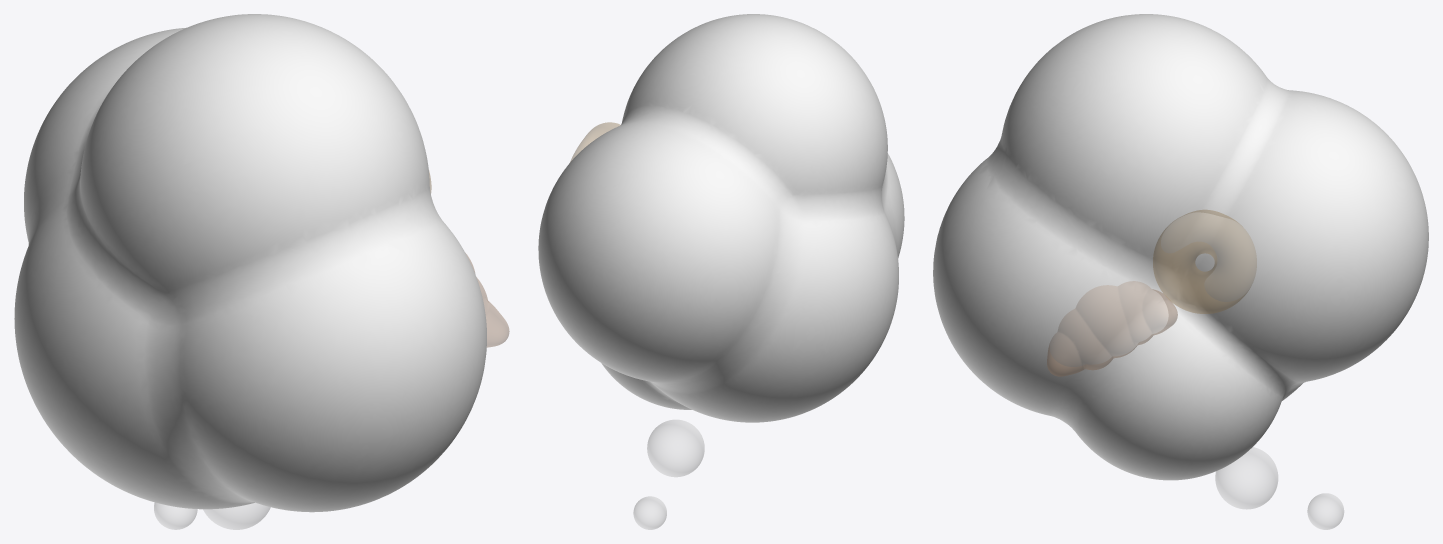
File: thought-bubble-ani-transformed.glb
3 renders of one model, left to right at view 1: azimuth 30°, elevation 25°; view 2: azimuth 150°, elevation 25°; view 3: azimuth 270°, elevation 25°, orthographic. The views are drawn at different scales.
Parts seen in each view (by area): view 1: mainbubble, trail1, croissant-1741832261122, trail2; view 2: mainbubble, trail1, trail2, donut-1741832277752; view 3: mainbubble, donut-1741832277752, croissant-1741832261122, trail1, trail2.
Part boxes in pixels (bbox=[...]): mainbubble: bbox=[14, 14, 486, 512]; trail1: bbox=[203, 503, 270, 529]; croissant-1741832261122: bbox=[466, 254, 509, 347]; trail2: bbox=[154, 503, 197, 529]; mainbubble: bbox=[538, 14, 904, 422]; trail1: bbox=[647, 420, 704, 476]; trail2: bbox=[633, 496, 666, 529]; donut-1741832277752: bbox=[570, 122, 619, 161]; mainbubble: bbox=[933, 14, 1428, 480]; donut-1741832277752: bbox=[1153, 210, 1256, 313]; croissant-1741832261122: bbox=[1047, 281, 1177, 376]; trail1: bbox=[1215, 447, 1277, 509]; trail2: bbox=[1307, 493, 1343, 529].
Size of the model in its own units: 118 by 168 by 154.
5 materials, 5 textured.
